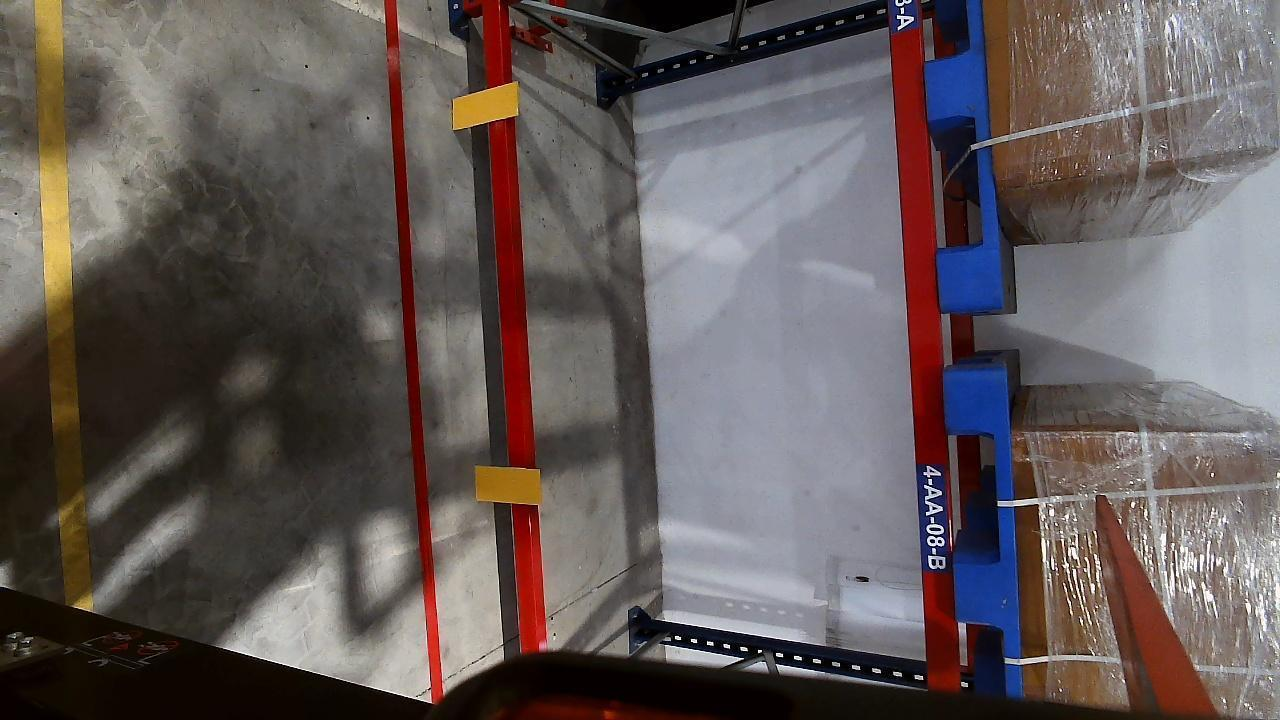red_line: (372, 0, 454, 687)
yellow_line: (26, 0, 98, 603)
